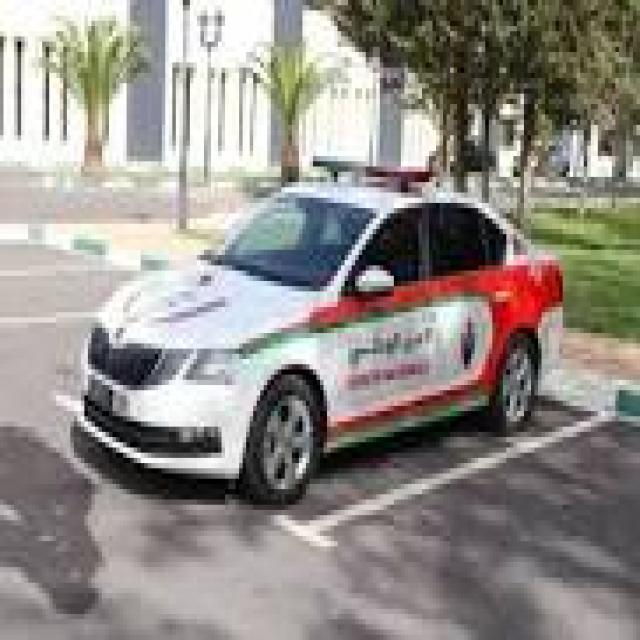police: (77, 155, 567, 506)
